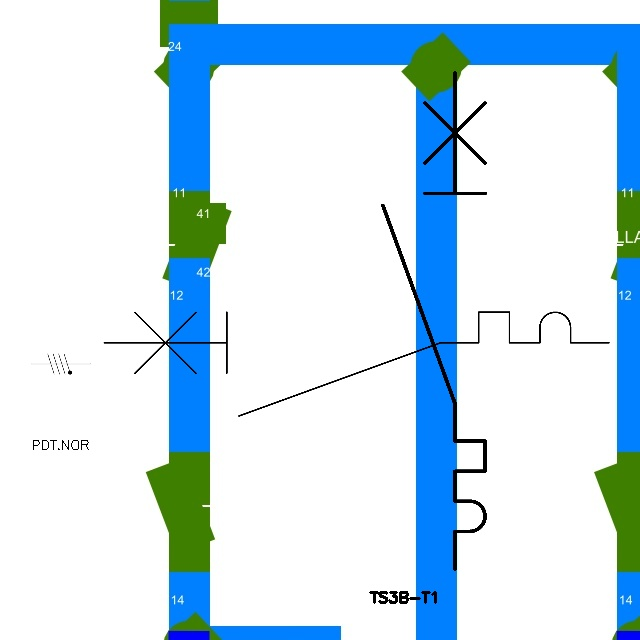interruptor_termomagnetico: (91, 299, 622, 429), (370, 60, 498, 582)
